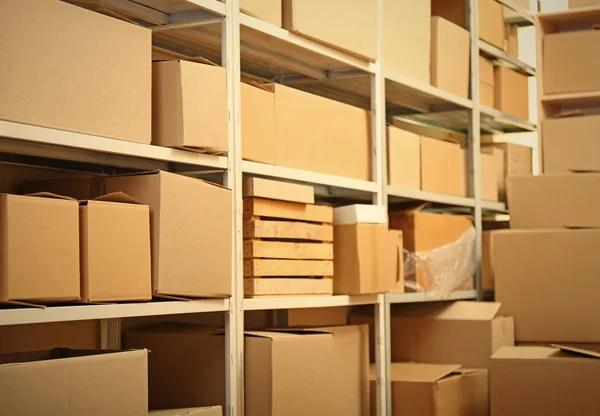Box: (0, 0, 151, 141), (0, 1, 150, 142), (492, 226, 600, 344), (495, 229, 600, 342), (245, 325, 369, 416), (148, 171, 231, 297), (0, 350, 146, 416), (273, 84, 370, 180), (0, 193, 81, 302), (490, 346, 600, 416), (390, 301, 512, 363), (80, 201, 151, 302), (152, 60, 227, 152), (286, 0, 380, 67), (404, 212, 476, 296), (506, 173, 600, 228), (391, 364, 487, 416), (334, 224, 404, 294), (421, 140, 498, 200), (384, 0, 430, 83), (544, 29, 600, 93), (543, 115, 600, 173), (430, 15, 470, 97), (383, 122, 424, 190), (421, 136, 468, 195), (242, 82, 275, 163), (387, 125, 420, 189), (495, 67, 527, 119), (479, 0, 504, 49)
